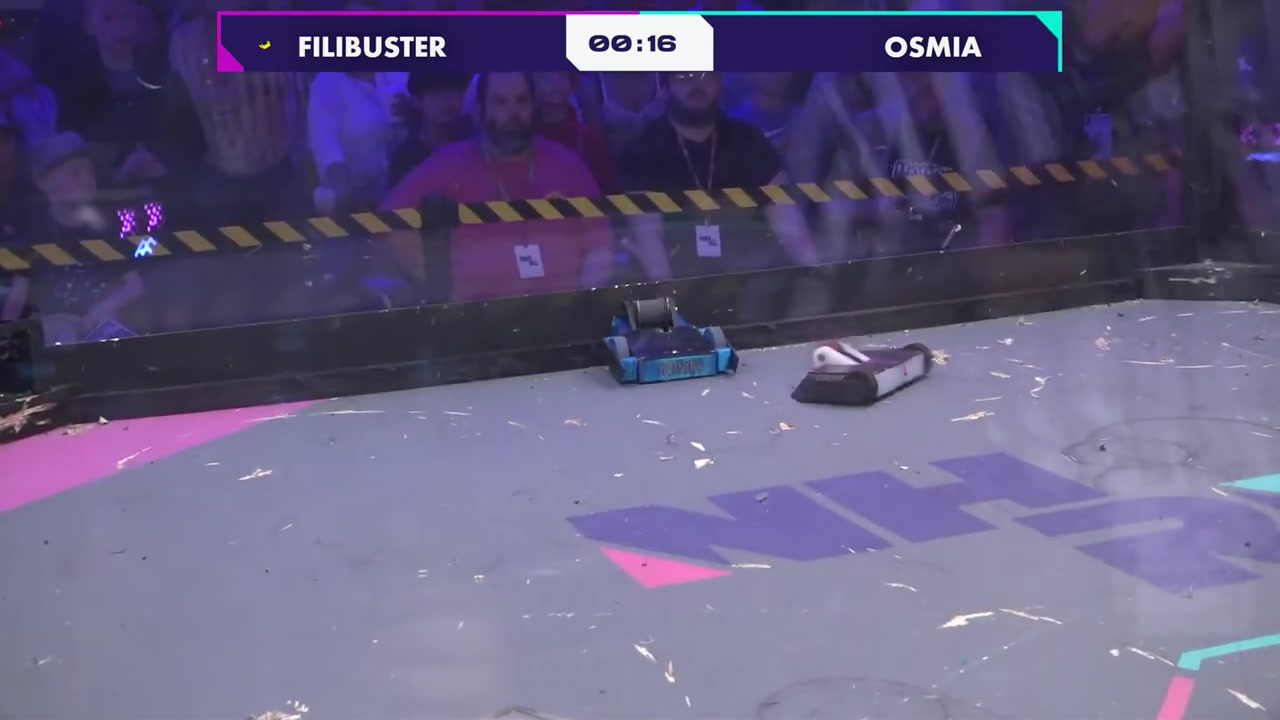combatbot: (605, 298, 739, 385), (789, 334, 933, 408)
